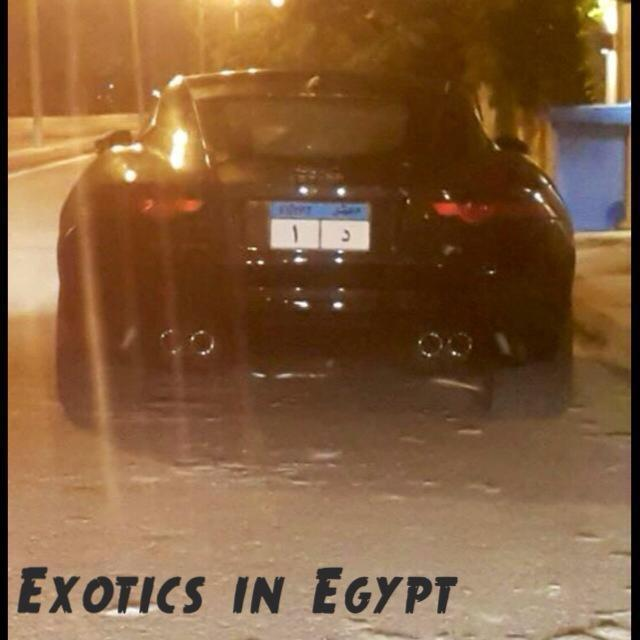1: (289, 222, 301, 244)
License Plate: (266, 199, 373, 255)
car: (61, 68, 580, 423)
daal: (337, 226, 352, 243)
